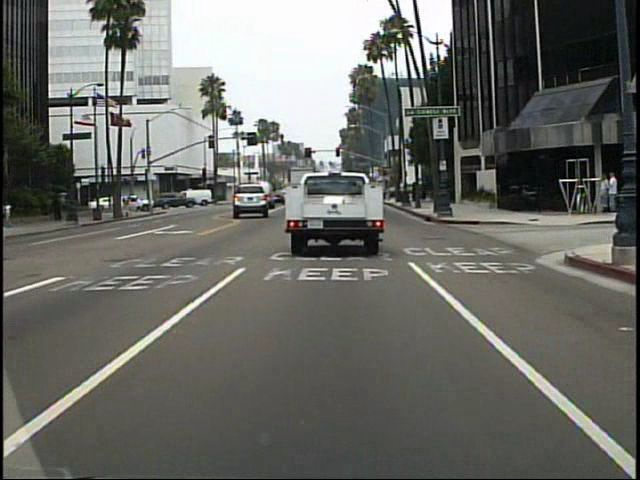person: (603, 167, 619, 216), (597, 171, 610, 213), (136, 193, 146, 213)
